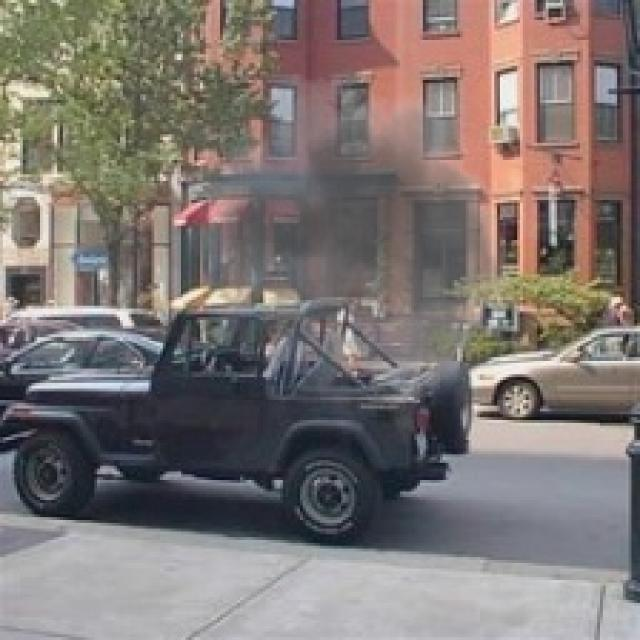smoke: (183, 57, 528, 449)
